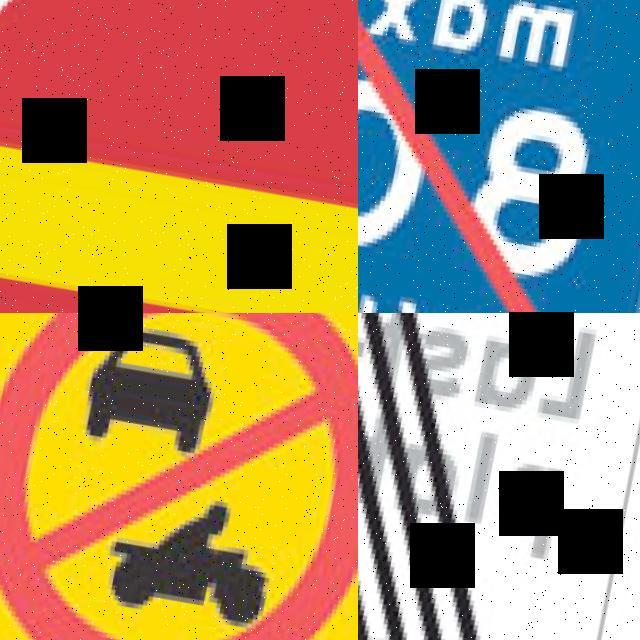115: (358, 313, 640, 640)
32: (0, 0, 358, 313)
82: (0, 313, 358, 640)
end of the speed limit: (358, 0, 640, 313)
